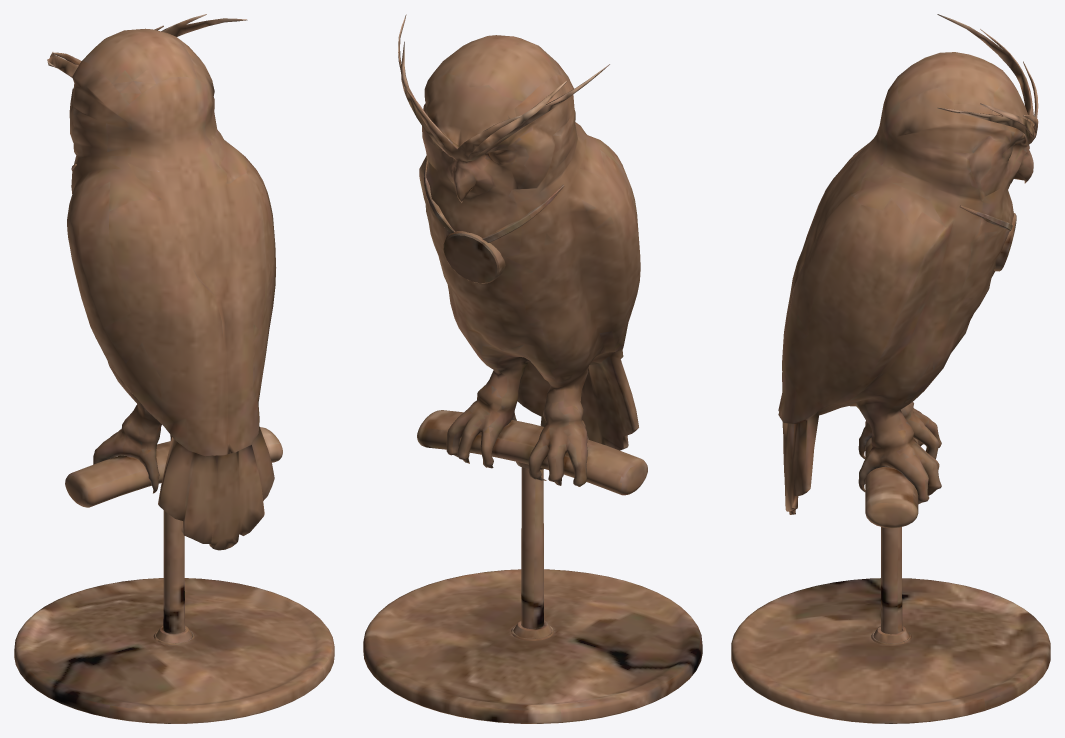
The model's file is owl-carved.glb.
3 views of the same model, side by side, from view 1: azimuth 30°, elevation 25°; view 2: azimuth 150°, elevation 25°; view 3: azimuth 270°, elevation 25° (orthographic). The views are drawn at different scales.
Visible parts, largest first — view 1: low; view 2: low; view 3: low.
Boxes of the visible parts, box(x1,y1,x2,y2) form: low: box(14, 14, 334, 723); low: box(363, 14, 702, 723); low: box(731, 14, 1050, 723).
Bounding box in the file's own units: 0.533 × 1.1 × 0.5319.
1 material, 1 textured.
